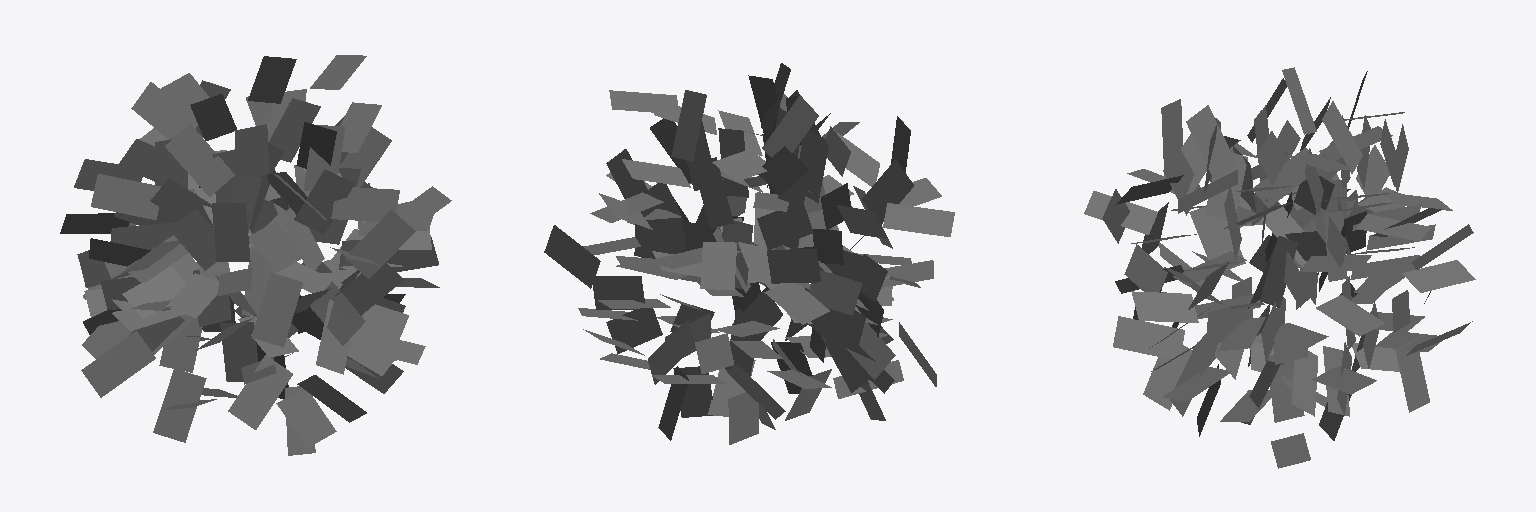
The model's file is cerisier03_leaf2.obj.
3 renders of one model, left to right at view 1: azimuth 30°, elevation 25°; view 2: azimuth 150°, elevation 25°; view 3: azimuth 270°, elevation 25°, orthographic.
Size of the model in its own units: 3.48 by 3.33 by 3.43.